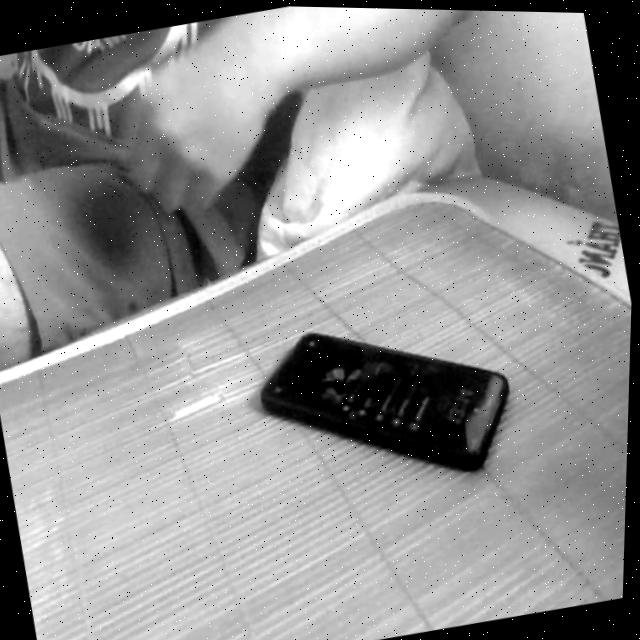phone: (238, 268, 541, 528)
